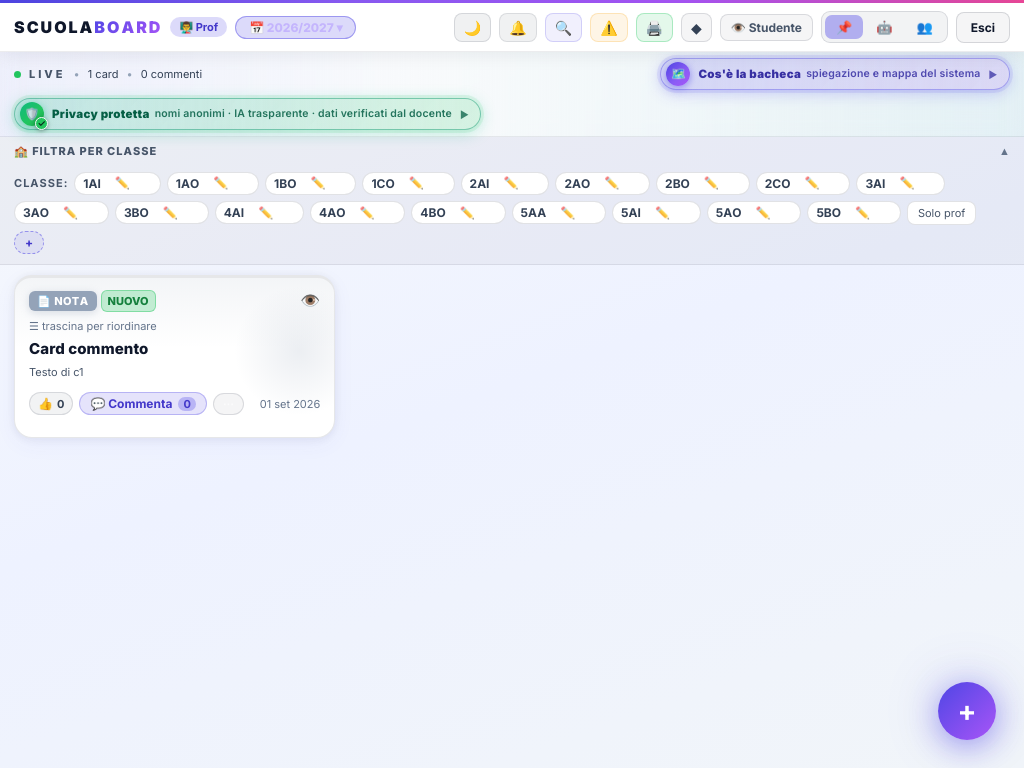
Test: CardDetail — stato APERTO › il prof scrive un commento dal pannello
Click the text "Card commento" at (89, 348), box [29,338,148,358]
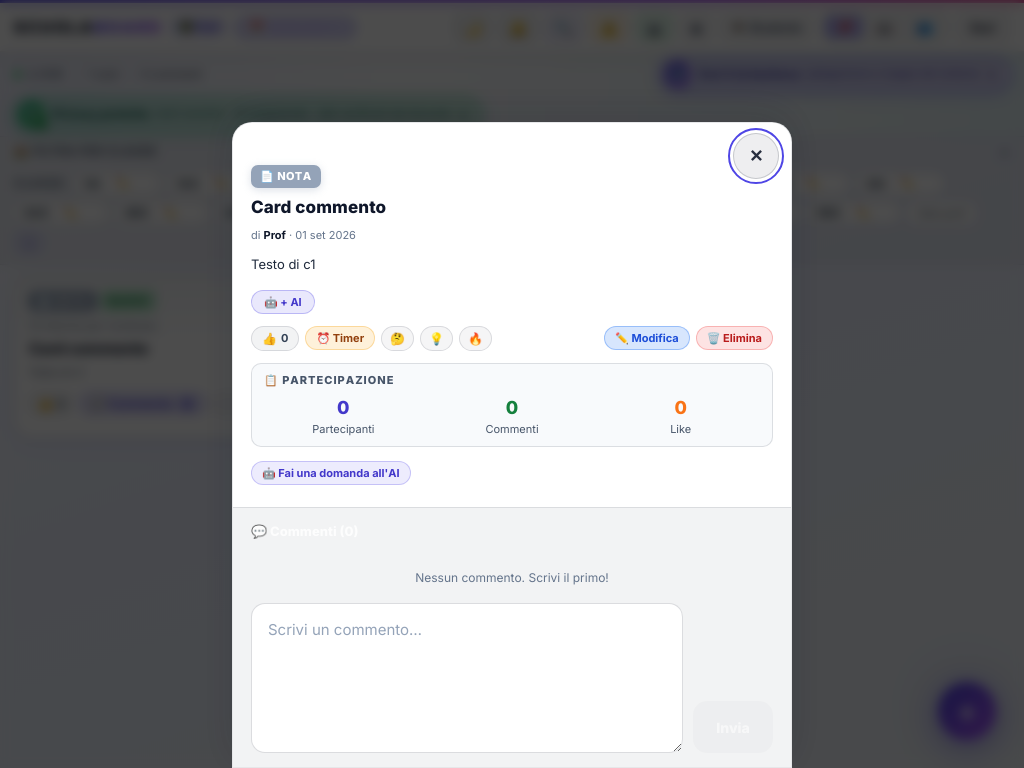
Type "Ottima lezione" into the text box labelled "Scrivi un commento" at (467, 678), box [251,603,683,753]
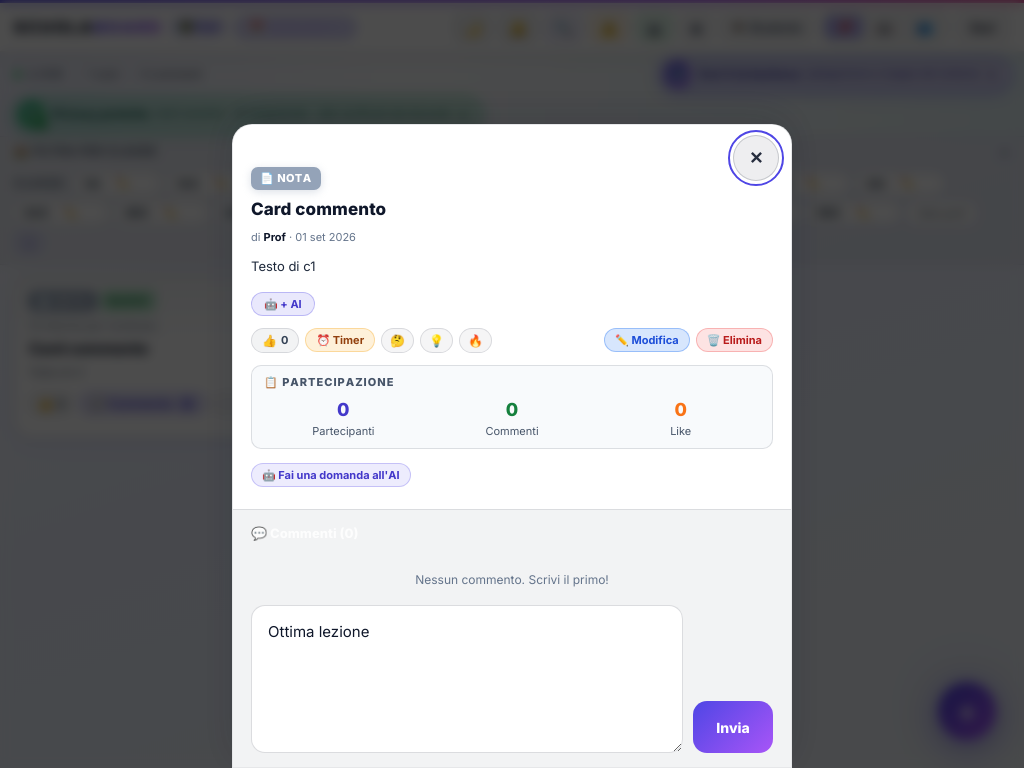
Click the button "Invia" at (733, 727), box [693,701,773,753]
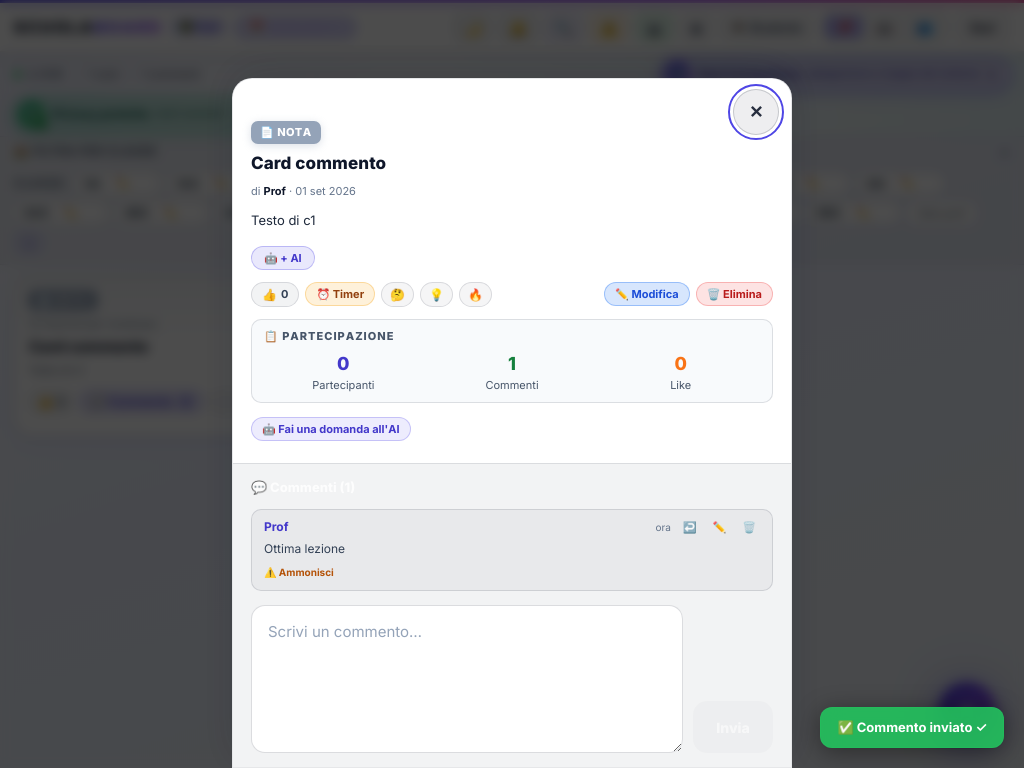
Check: the 1st text "Prof" is shown, box [264,184,286,198]
Check: the text "Ottima lezione" is shown, box [264,541,345,556]
